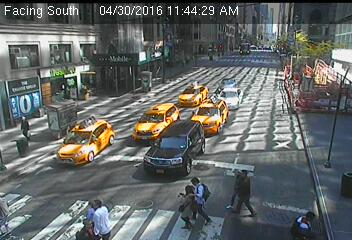neg: (17, 63, 47, 103), (59, 99, 87, 137), (47, 151, 74, 188), (272, 100, 295, 131), (5, 178, 28, 208), (111, 161, 133, 191), (195, 78, 216, 105), (48, 45, 69, 72), (238, 80, 258, 106), (288, 134, 307, 161), (90, 81, 109, 107), (250, 130, 269, 156), (272, 49, 291, 74), (134, 96, 152, 120), (320, 144, 338, 168), (318, 73, 335, 97), (176, 34, 193, 56), (128, 41, 145, 63), (99, 44, 116, 66), (227, 32, 243, 53)
pos: (186, 175, 220, 220), (230, 171, 261, 212), (169, 186, 197, 222), (84, 194, 111, 231), (296, 206, 315, 232), (16, 113, 35, 139)
